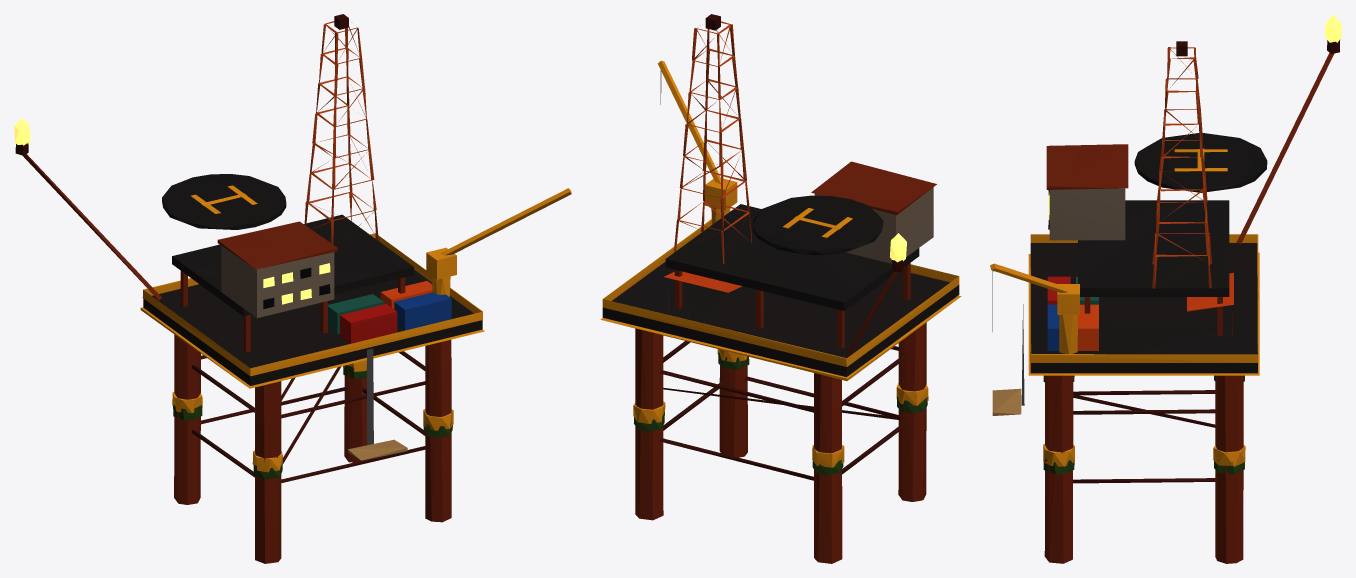
File: tb_oil_rig.three-web-toon.lod50.glb
3 views of the same model, side by side, from view 1: azimuth 30°, elevation 25°; view 2: azimuth 150°, elevation 25°; view 3: azimuth 270°, elevation 25° (orthographic). The views are drawn at different scales.
Parts seen in each view (by area): view 1: oil_rig_body_lod; view 2: oil_rig_body_lod; view 3: oil_rig_body_lod.
Boxes of the visible parts, bbox=[...] form: oil_rig_body_lod: bbox=[14, 14, 571, 563]; oil_rig_body_lod: bbox=[600, 14, 961, 563]; oil_rig_body_lod: bbox=[990, 14, 1341, 563].
Size of the model in its own units: 51.17 by 57.6 by 37.18.
